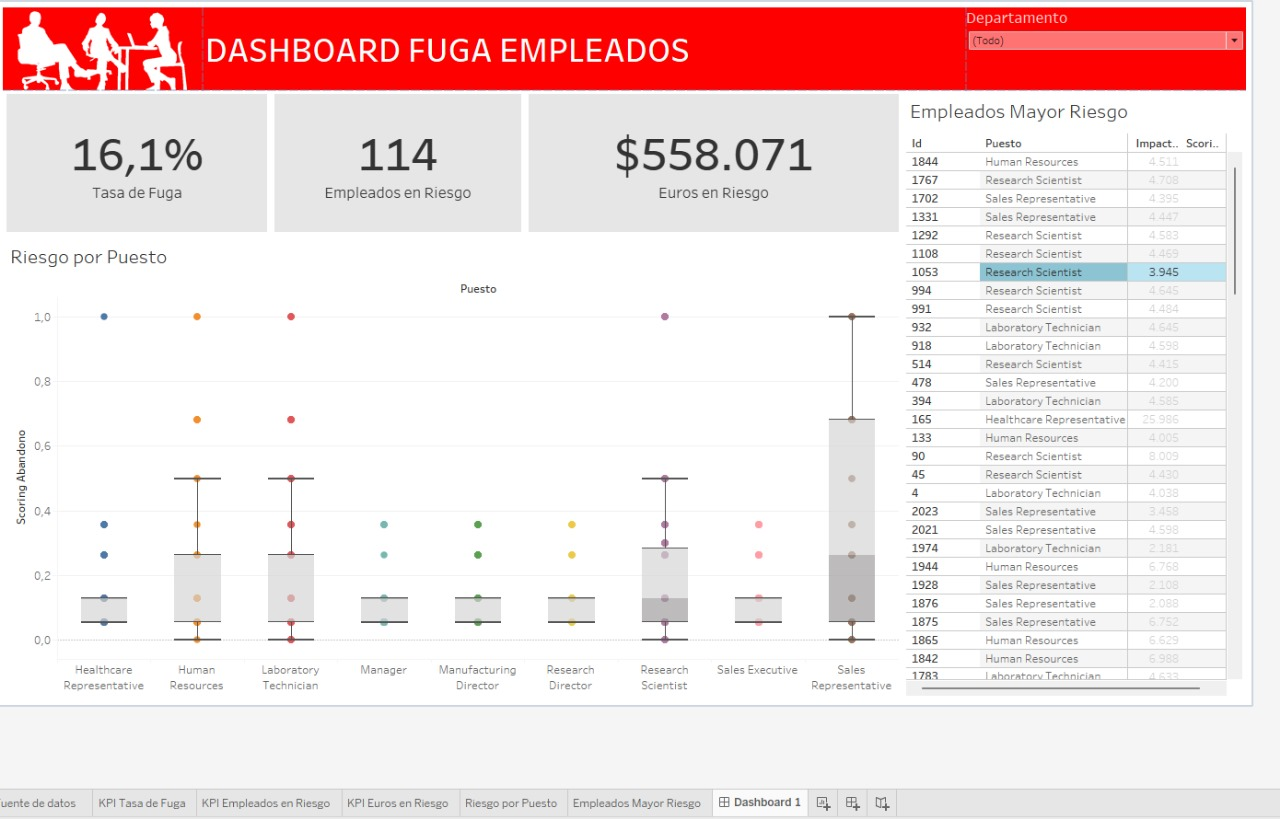

The page's visual inventory and layout, read from the dashboard file:
{"tool":"tableau","page":{"name":"Dashboard 1","canvas":[1366,768],"ordinal":0},"visuals":[{"type":"image","param":"Image/logo_dashboard.png","box":[8,8,217,90]},{"type":"text","box":[225,8,829,90]},{"type":"filter","title":"Empleados Mayor Riesgo","param":"[federated.0uc9fyi03rekck11x54n70izfwzt].[none:departamento:nk]","box":[1054,8,304,58]},{"type":"worksheet","title":"KPI Tasa de Fuga","mark":"Automatic","box":[8,98,291,158]},{"type":"worksheet","title":"KPI Empleados en Riesgo","mark":"Automatic","box":[299,98,276,158]},{"type":"worksheet","title":"KPI Euros en Riesgo","mark":"Automatic","box":[575,98,410,158]},{"type":"worksheet","title":"Empleados Mayor Riesgo","mark":"Automatic","rows":["id","puesto"],"box":[985,98,373,662]},{"type":"worksheet","title":"Riesgo por Puesto","mark":"Circle","rows":["scoring_abandono"],"cols":["puesto"],"box":[8,256,977,504]}]}

Visuals, with their boxes in screenshot pixels (x1, y1, x2, y2):
image: box(44, 7, 237, 87)
text: box(237, 7, 976, 87)
"Empleados Mayor Riesgo" filter: box(976, 7, 1247, 59)
"KPI Tasa de Fuga" worksheet: box(44, 87, 303, 228)
"KPI Empleados en Riesgo" worksheet: box(303, 87, 549, 228)
"KPI Euros en Riesgo" worksheet: box(549, 87, 915, 228)
"Empleados Mayor Riesgo" worksheet: box(915, 87, 1247, 677)
"Riesgo por Puesto" worksheet (Circle marks): box(44, 228, 915, 677)
